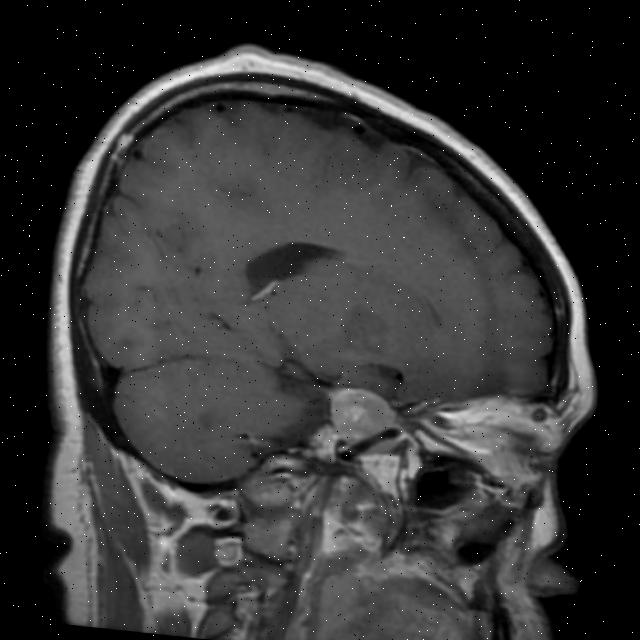Pituitary: (326, 383, 399, 444)
